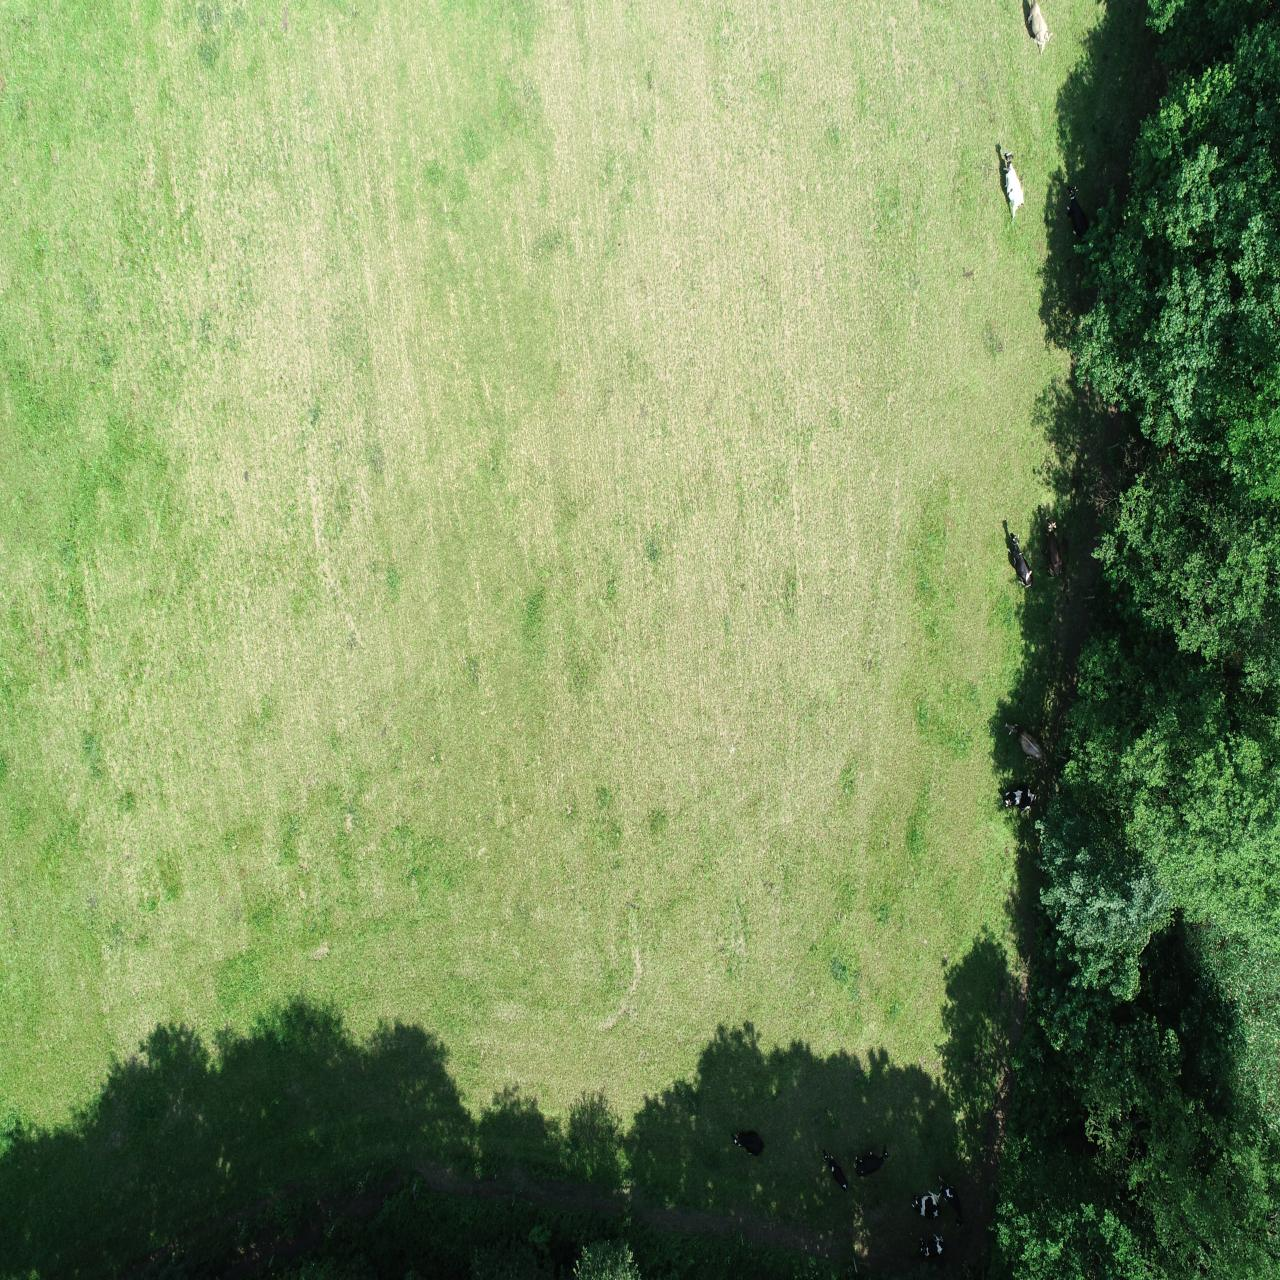cow: (1001, 719, 1047, 768), (1000, 150, 1027, 222), (1040, 512, 1065, 584), (1006, 529, 1034, 591), (995, 782, 1043, 817), (1062, 184, 1090, 240)
